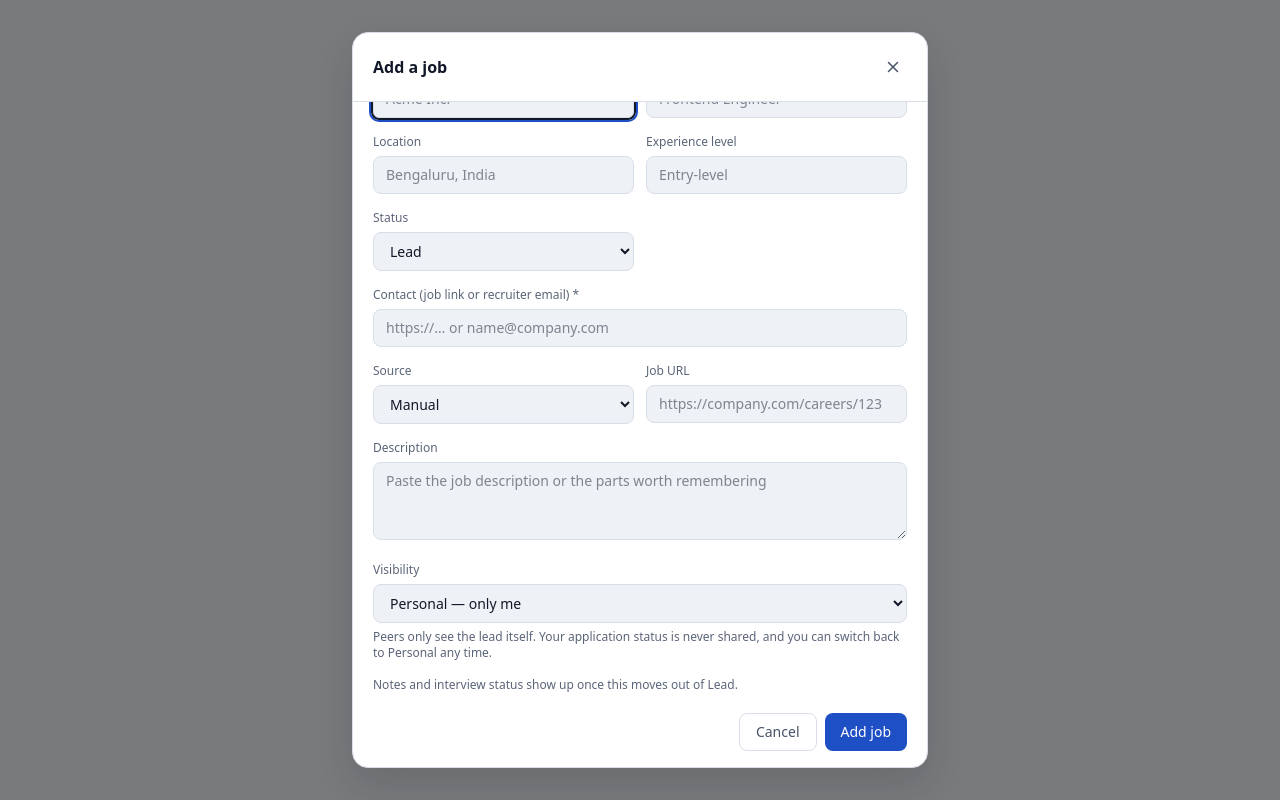
Test: Add a job: a new lead needs a company, a role and a link or email › names everything that is missing when the form is empty
(page scrolled)
Click the button "Add job" at (866, 732), box [824, 713, 907, 751]
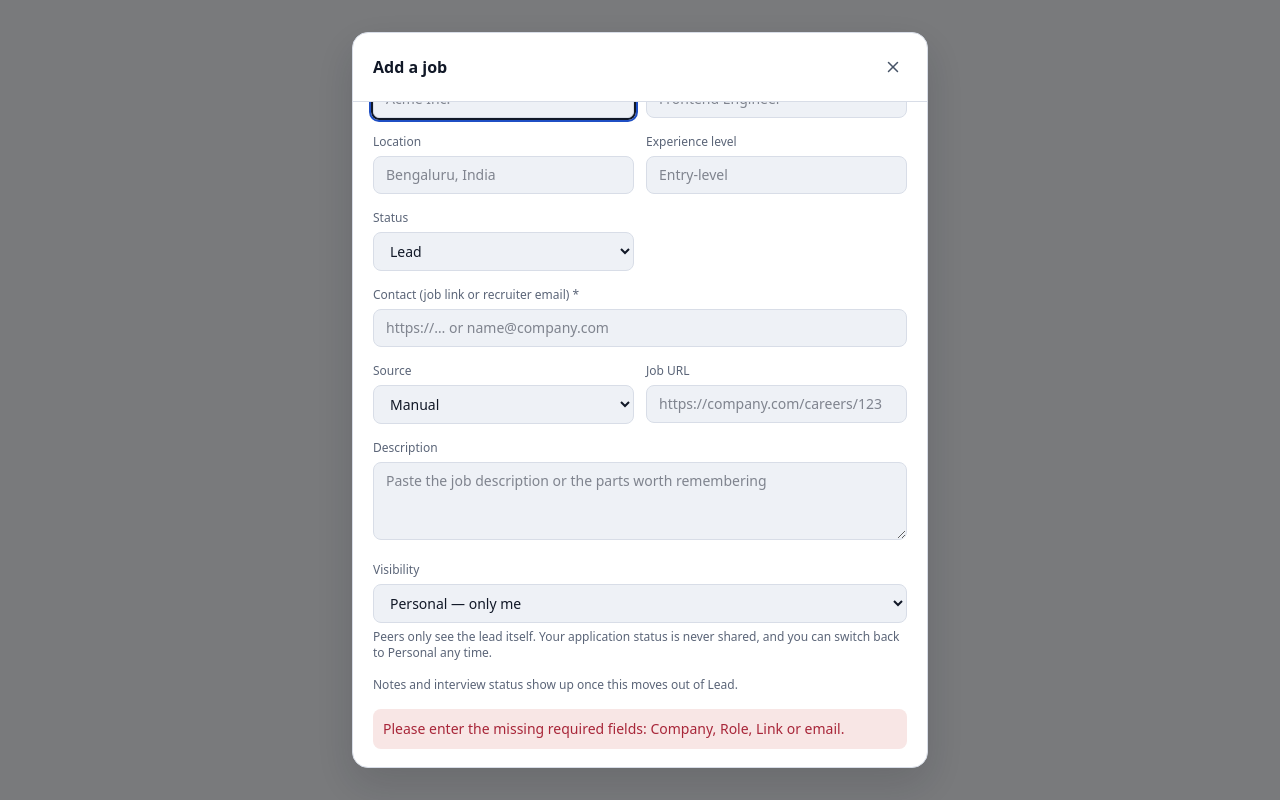
Expected: the message reads "Please enter the missing required fields: Company, Role, Link or email.", [383, 719, 844, 738]
